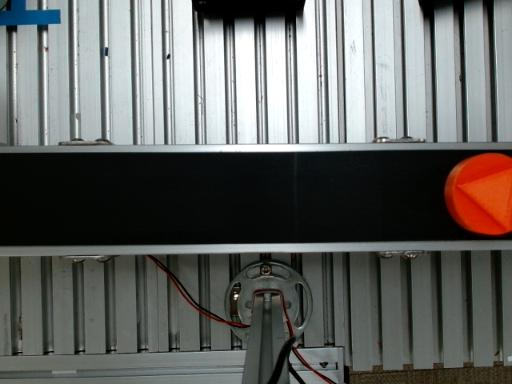Not_Square: (457, 167, 511, 233)
Orange_Waper: (445, 153, 511, 234)
